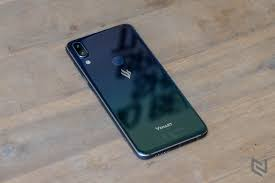vsmart: (61, 18, 217, 161)
